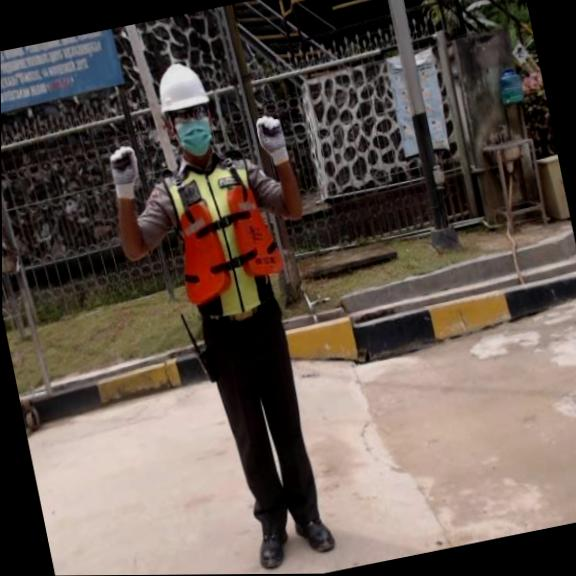safety_vest: (164, 175, 288, 308)
